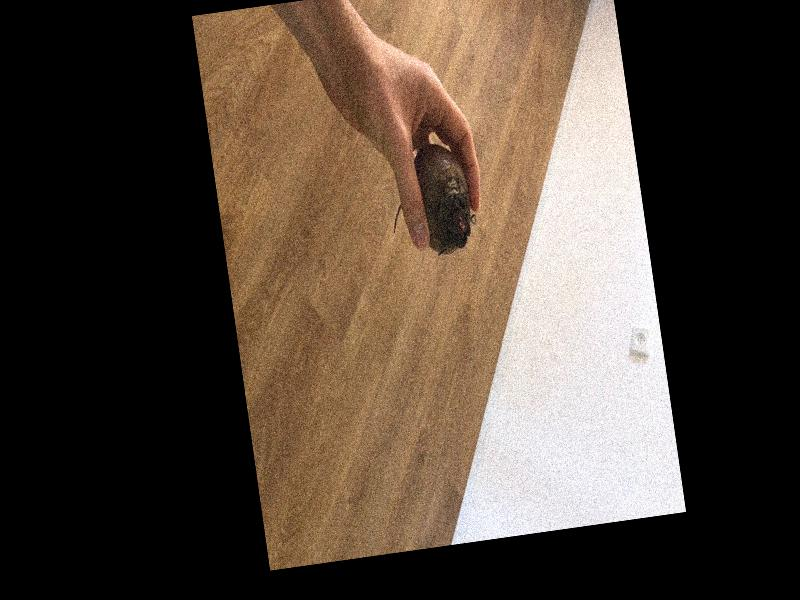Beet: (382, 140, 478, 262)
